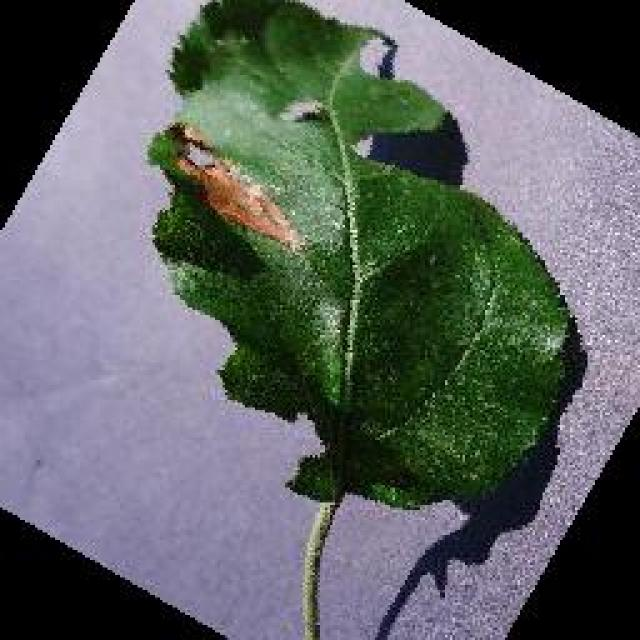Black_rot: (144, 0, 587, 512)
